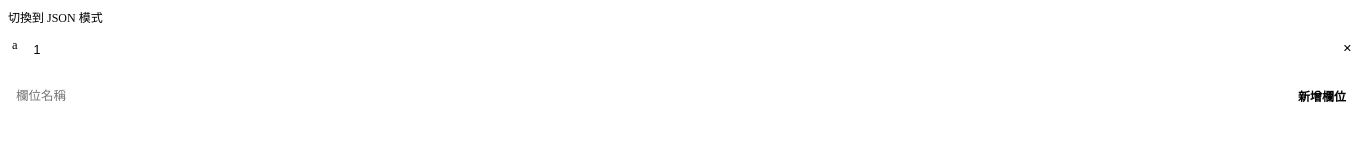
it: JsonConfigEditor 表格模式新增／移除欄位 › 鍵名重複時不覆蓋既有值並顯示錯誤
This screenshot has width=1366, height=160.
In the field with test id "new-field-key": (644, 96) [8, 82, 1280, 110], type "a"
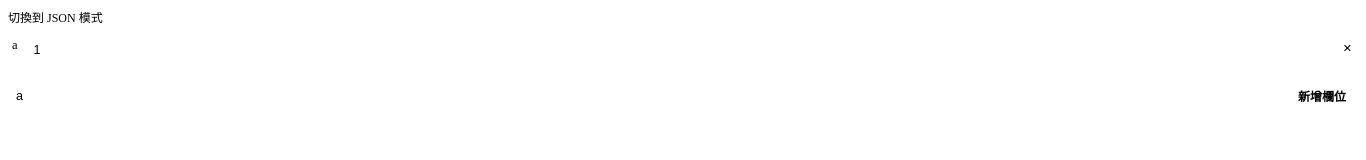
Click the button with test id "add-field" showing "新增欄位": (1322, 96) [1286, 82, 1358, 110]
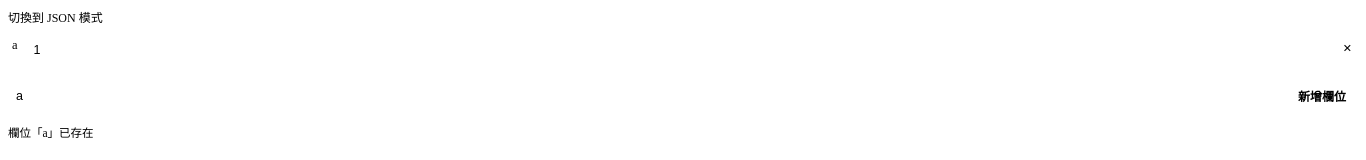
expect the text with test id "new-field-error" shows "已存在": met, box [8, 127, 94, 139]
